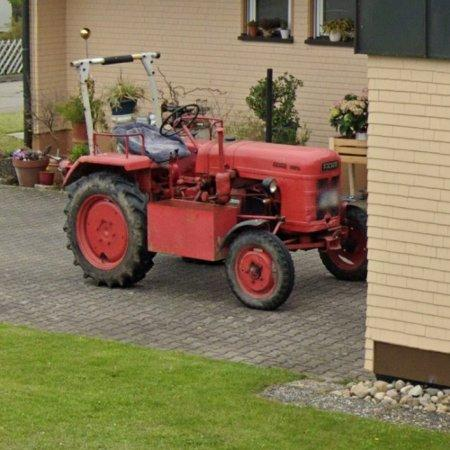tractors: (63, 53, 368, 310)
